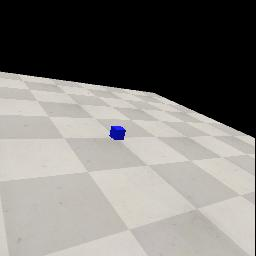box: (109, 126, 126, 140)
